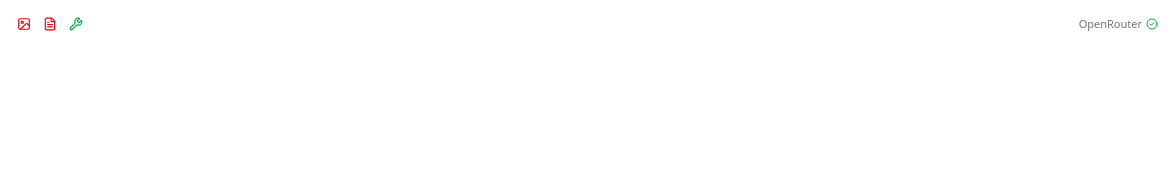
Test: ModelCapabilityEditor › shows supported and unsupported capabilities as compact icon controls
This screenshot has width=1176, height=172.
Expected: the text "OpenRouter" is shown, [1079,17,1142,31]
Hover over the button named "Tool Calling: Supported" at (76, 24), box [64,12,88,36]
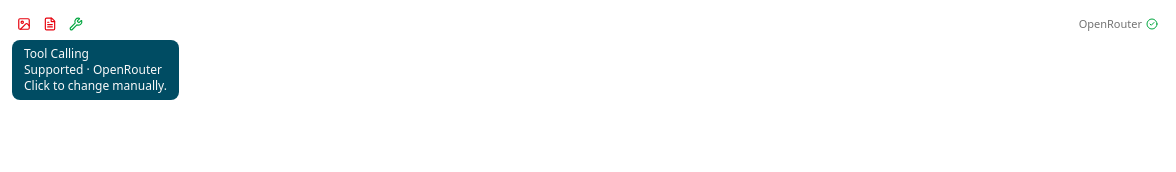
Expected: the text "Supported · OpenRouter" is shown, [24,62,167,78]
